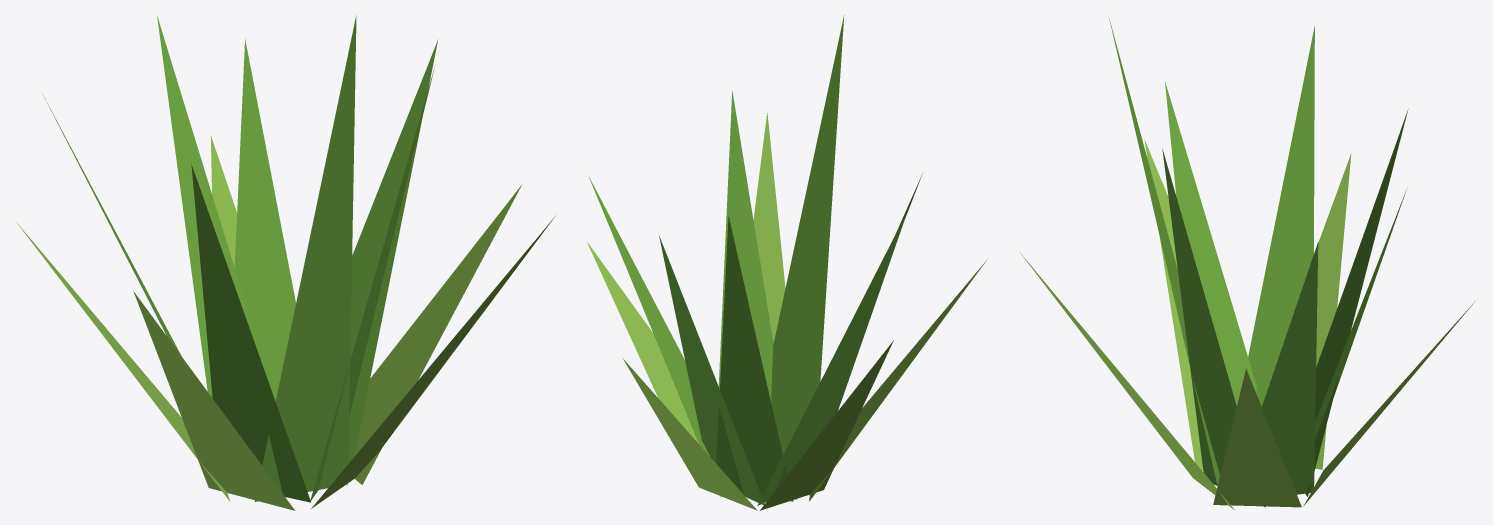
Rendered from grass_tuft.obj.
3 renders of one model, left to right at view 1: azimuth 30°, elevation 25°; view 2: azimuth 150°, elevation 25°; view 3: azimuth 270°, elevation 25°, orthographic. The views are drawn at different scales.
Visible parts, largest first — view 1: grass; view 2: grass; view 3: grass.
Boxes of the visible parts, x1,y1,x2,y2 form: grass: (16,14,555,510); grass: (587,15,986,510); grass: (1019,18,1477,509).
Size of the model in its own units: 0.2529 by 0.2866 by 0.2589.
